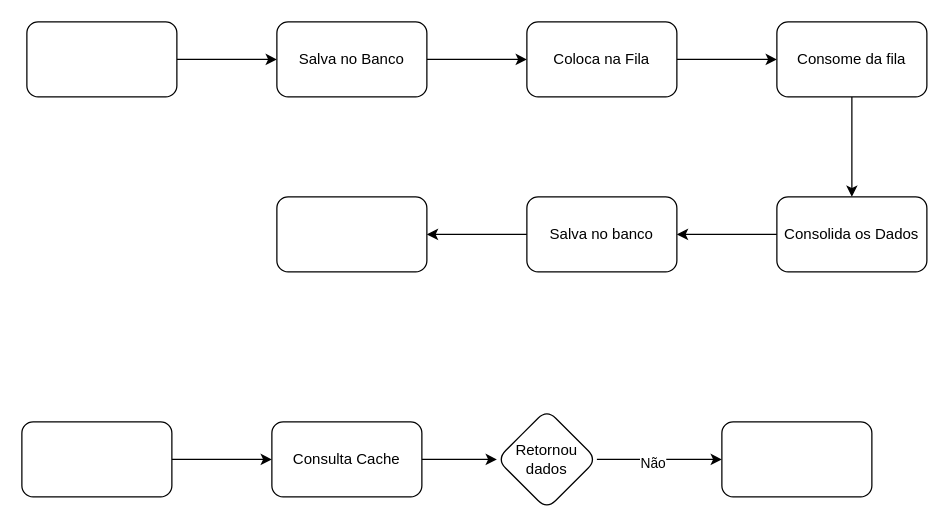
This 949x531 diagram has some shape labels left out. The shapes that lost their labels are listed below. From the top down, each one's centre as x and y in pixels, then its label:
(x=101, y=59): Api. Lançamento
(x=351, y=234): Atualiza Cache
(x=96, y=459): Api. Consolidado
(x=796, y=459): Consulta Banco
